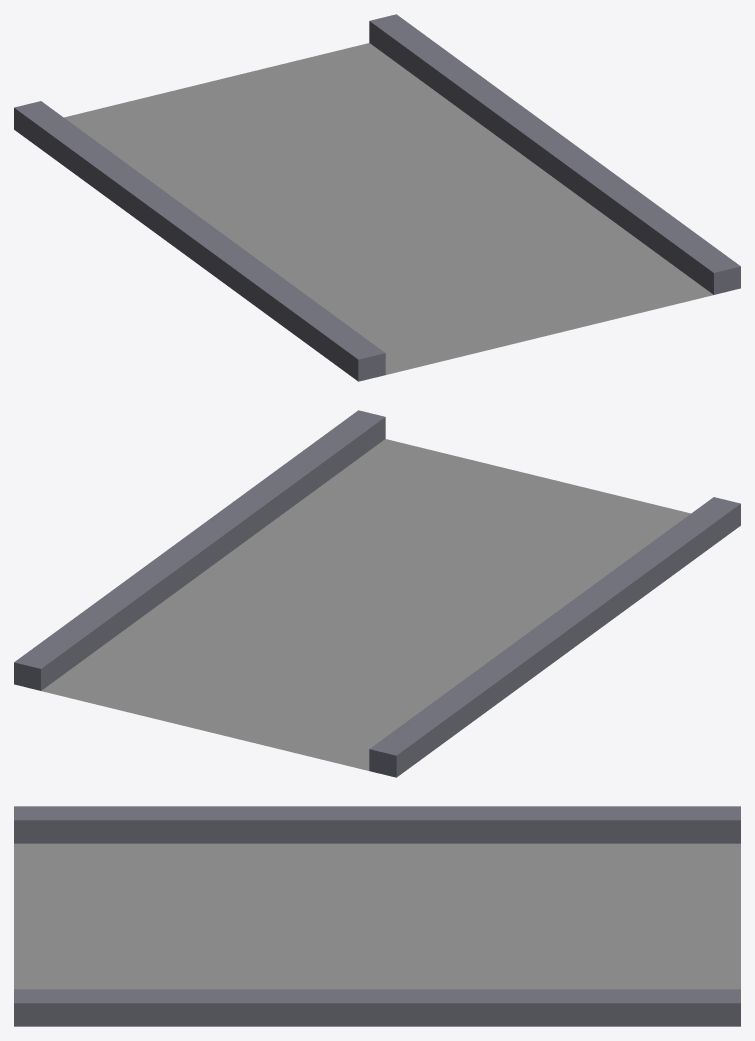
File: FloorRoad_sect_geo.fbx
The picture shows the model from 3 angles, top to bottom: view 1: azimuth 30°, elevation 25°; view 2: azimuth 150°, elevation 25°; view 3: azimuth 270°, elevation 25°; orthographic projection. The views are drawn at different scales.
Visible parts, largest first — view 1: FloorRoad_sect_geo; view 2: FloorRoad_sect_geo; view 3: FloorRoad_sect_geo.
Part boxes in pixels (x1=…): FloorRoad_sect_geo: x1=14, y1=14, x2=740, y2=381; FloorRoad_sect_geo: x1=14, y1=410, x2=740, y2=777; FloorRoad_sect_geo: x1=14, y1=806, x2=740, y2=1026.
Size of the model in its own units: 3.57 by 5.57 by 0.1969.
